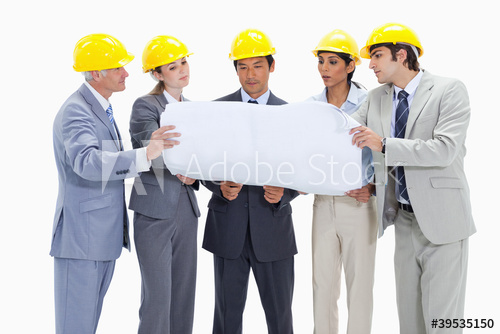Person_wearing_helmet: (361, 15, 438, 56), (74, 33, 136, 80), (227, 23, 281, 70), (313, 24, 360, 66)
